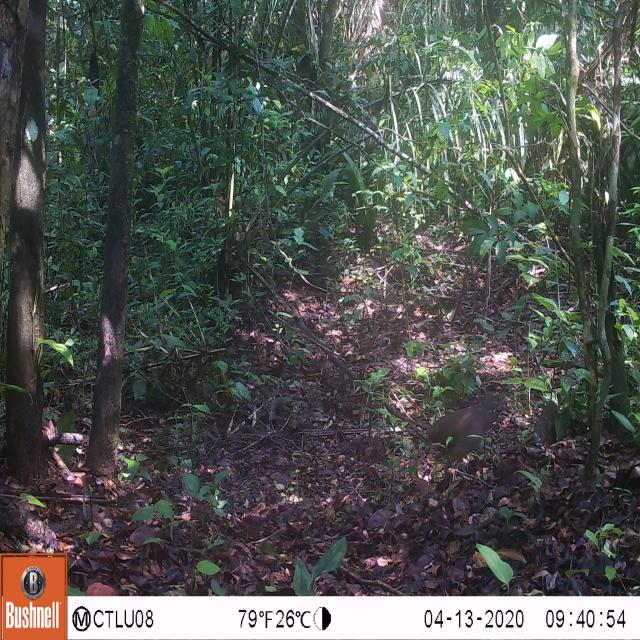Crypturellus: (413, 383, 510, 486)
